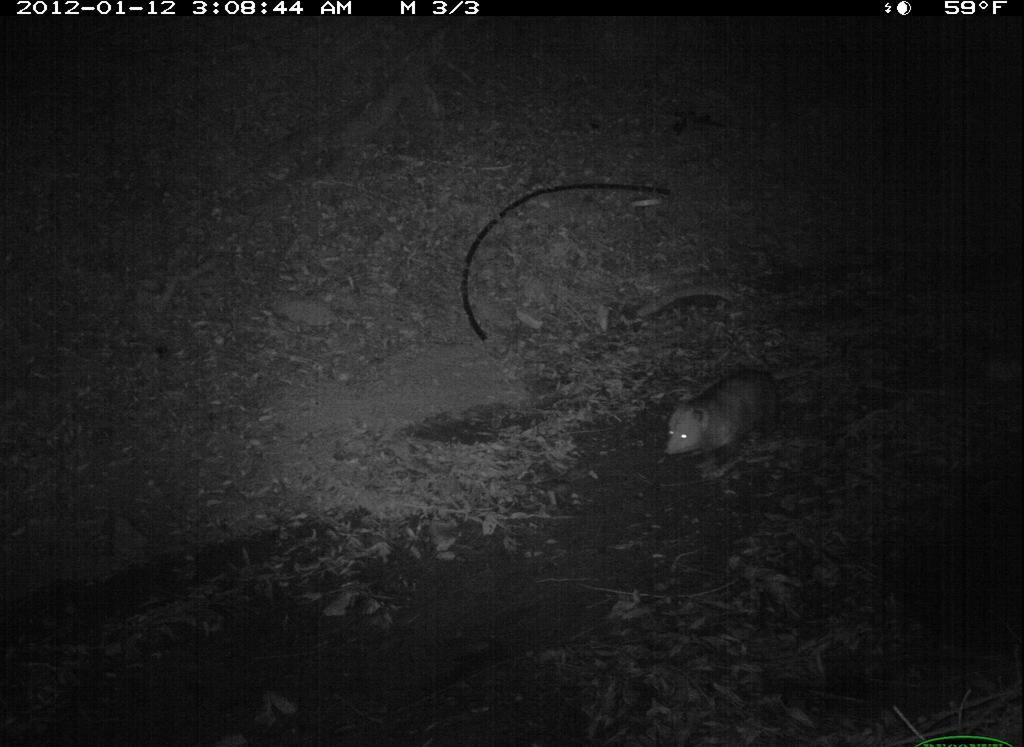opossum: (662, 360, 835, 473)
